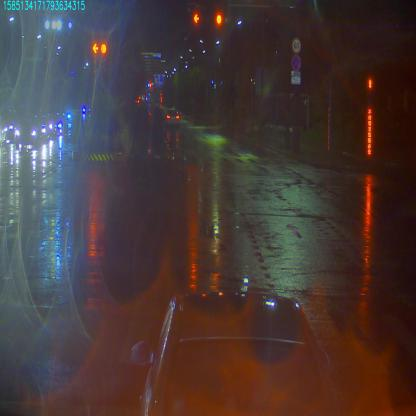traffic-light: (192, 9, 200, 26), (216, 11, 221, 24)
